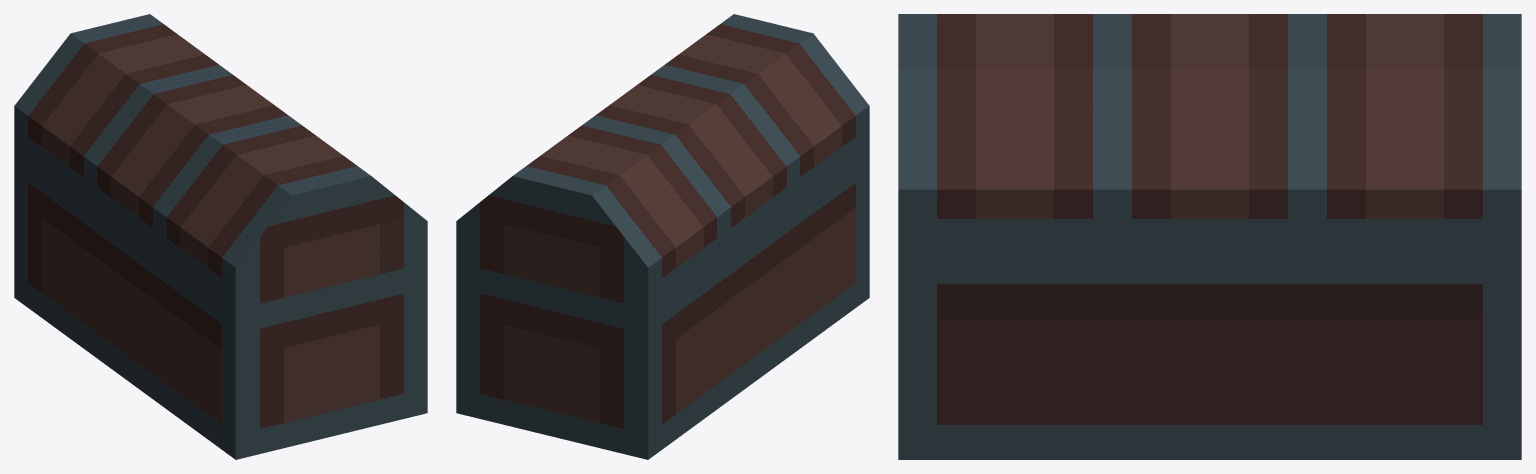
File: create.gltf
The picture shows the model from 3 angles, left to right: view 1: azimuth 30°, elevation 25°; view 2: azimuth 150°, elevation 25°; view 3: azimuth 270°, elevation 25°; orthographic projection. The views are drawn at different scales.
Parts seen in each view (by area): view 1: cylinder, cuboid; view 2: cylinder, cuboid; view 3: cylinder, cuboid.
Boxes of the visible parts, x1=… form: cylinder: x1=14, y1=14, x2=427, y2=309; cuboid: x1=14, y1=147, x2=427, y2=459; cylinder: x1=456, y1=14, x2=869, y2=309; cuboid: x1=456, y1=147, x2=869, y2=459; cylinder: x1=898, y1=14, x2=1521, y2=248; cuboid: x1=898, y1=248, x2=1521, y2=459.
Size of the model in its own units: 0.5 by 0.625 by 1.
2 materials, 2 textured.
